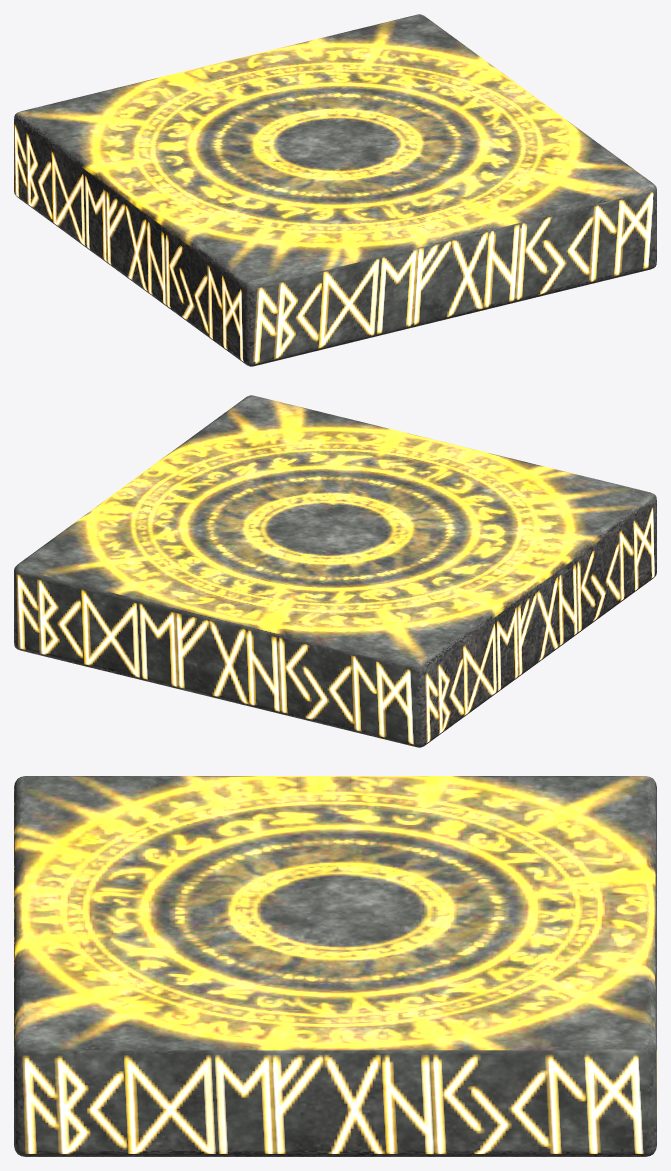
The model's file is ChameleonPL.fbx.
3 renders of one model, top to bottom at view 1: azimuth 30°, elevation 25°; view 2: azimuth 150°, elevation 25°; view 3: azimuth 270°, elevation 25°, orthographic. The views are drawn at different scales.
Visible parts, largest first — view 1: Chameleon_platform_stone.001; view 2: Chameleon_platform_stone.001; view 3: Chameleon_platform_stone.001.
Boxes of the visible parts, x1,y1,x2,y2 form: Chameleon_platform_stone.001: [14, 14, 656, 366]; Chameleon_platform_stone.001: [14, 395, 656, 747]; Chameleon_platform_stone.001: [14, 776, 656, 1156].
Size of the model in its own units: 200 by 40 by 200.
